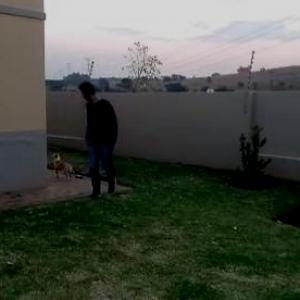follow: (80, 74, 118, 203)
